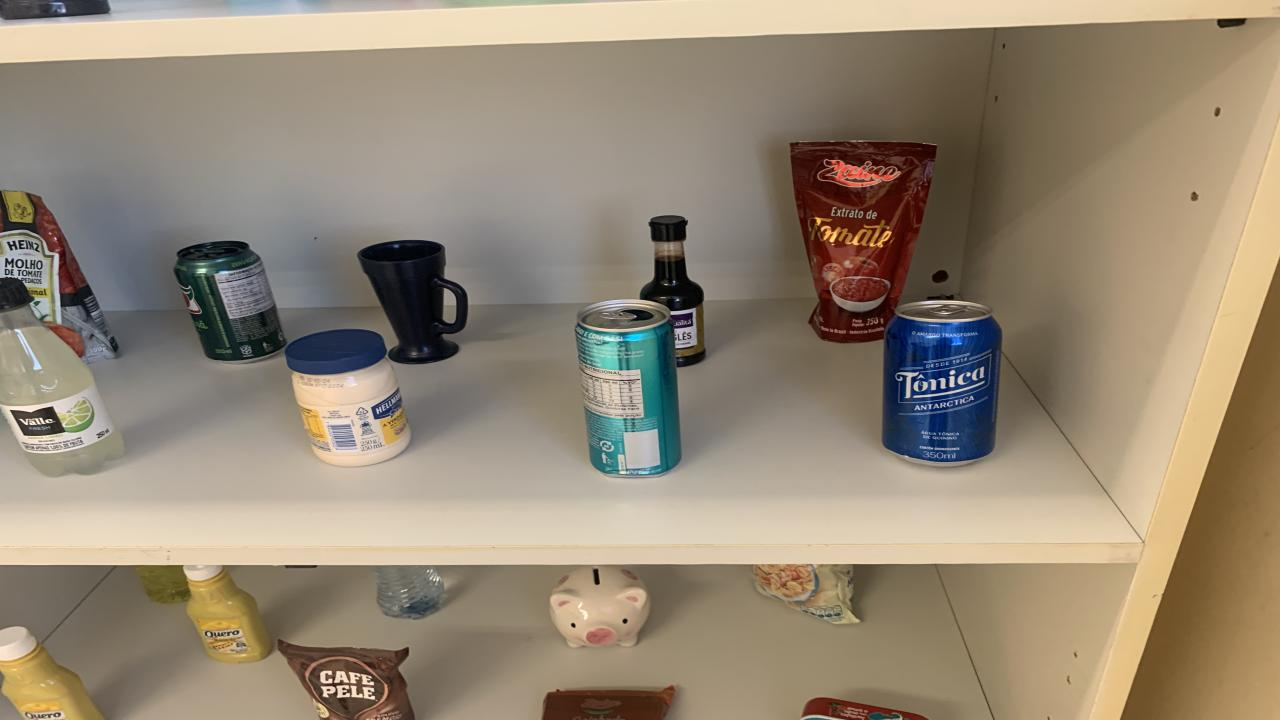Coffee-Pantry_Items: (278, 639, 415, 720)
Detergent-Cleanup_Items: (135, 566, 190, 604)
English_Sauce-Pantry_Items: (640, 216, 705, 366)
Flakes-Snacks: (752, 564, 860, 624)
Guarana_Can-Drinks: (175, 242, 285, 362)
Guava-Snacks: (542, 686, 675, 720)
Mayonnaise-Pantry_Items: (285, 330, 410, 467)
Mustard-Pantry_Items: (0, 626, 102, 720), (182, 564, 272, 664)
Pig_Safe-Miscellaneous: (550, 566, 650, 647)
Soda-Drinks: (0, 278, 122, 476)
Tea-Drinks: (575, 300, 680, 476)
Tomato_Sauce-Pantry_Items: (790, 141, 938, 343), (0, 191, 118, 362)
Tonic-Drinks: (882, 300, 1002, 465)
Tuna_Can-Pantry_Items: (802, 698, 928, 720)
Water_Bottle-Drinks: (372, 566, 445, 619)
